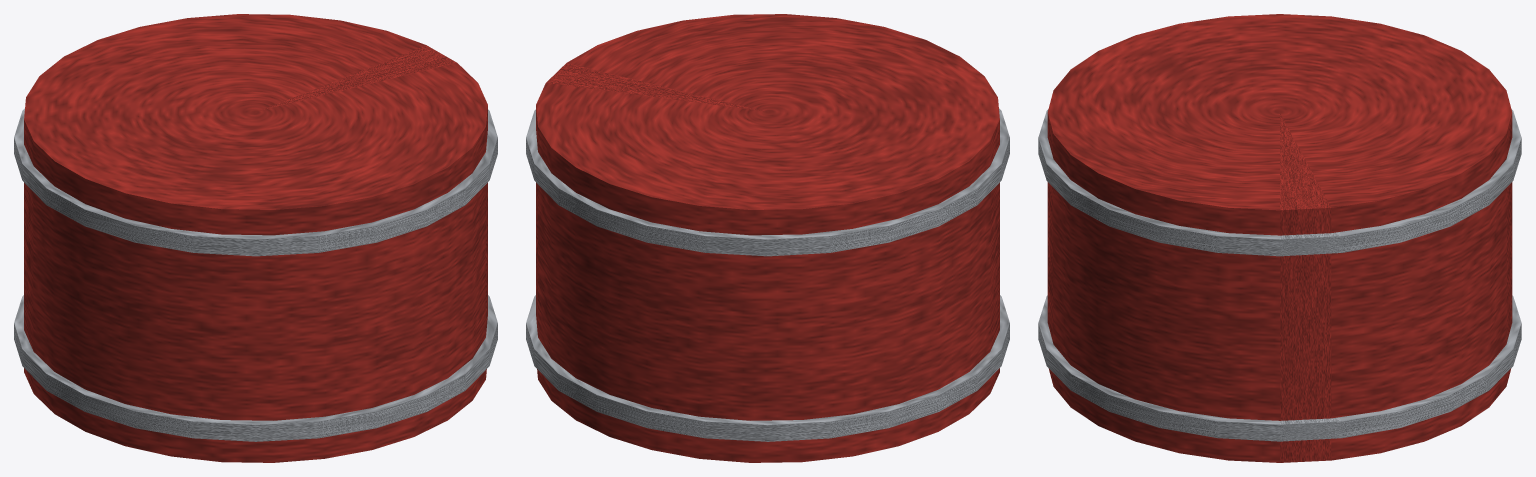
Rendered from obstacle_barrel.obj.
The picture shows the model from 3 angles, left to right: view 1: azimuth 30°, elevation 25°; view 2: azimuth 150°, elevation 25°; view 3: azimuth 270°, elevation 25°; orthographic projection.
Size of the model in its own units: 1.04 by 0.6 by 1.04.
2 materials, 2 textured.
